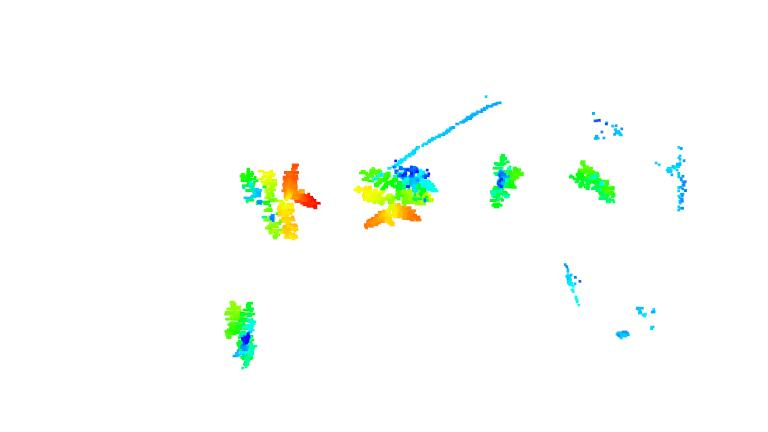chickpea: (355, 158, 442, 232), (238, 159, 315, 232), (221, 298, 256, 368), (568, 158, 619, 205), (485, 153, 527, 210)
